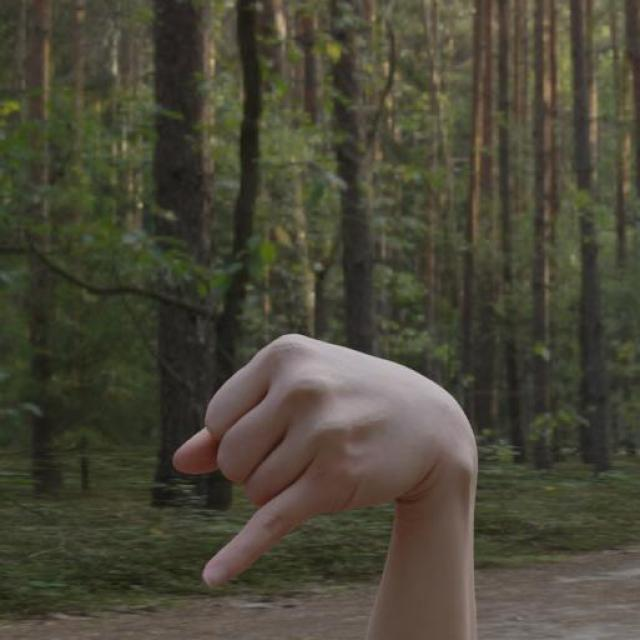J: (169, 330, 485, 590)
